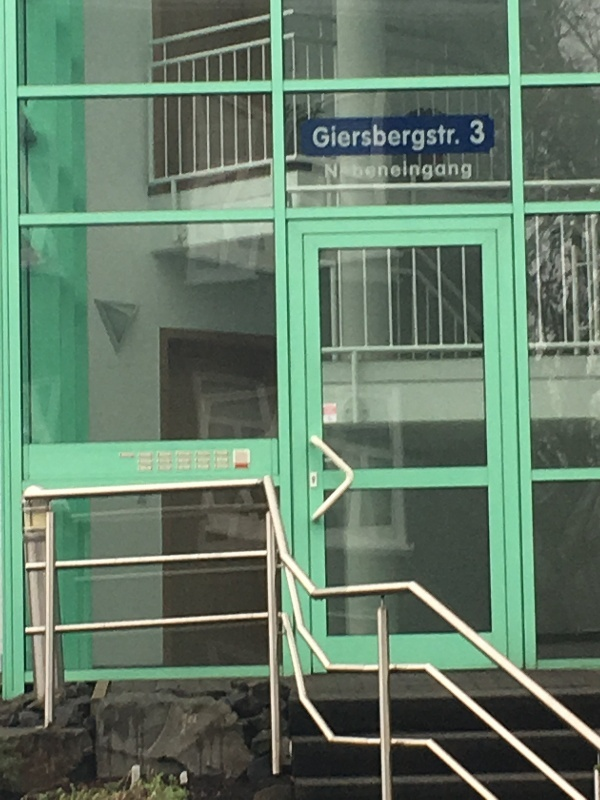text: (321, 125, 336, 154), (337, 125, 352, 154), (353, 125, 368, 154), (369, 125, 384, 154), (385, 125, 400, 154), (401, 125, 416, 154), (417, 125, 432, 154), (433, 125, 448, 154), (129, 451, 144, 474), (145, 451, 160, 474), (161, 451, 176, 474), (177, 451, 192, 474), (193, 451, 208, 474), (209, 451, 224, 474), (449, 125, 460, 154), (337, 162, 352, 182), (353, 162, 368, 182), (369, 162, 384, 182), (385, 162, 400, 182), (401, 162, 416, 182), (417, 162, 432, 182), (433, 162, 448, 182), (449, 162, 464, 182), (116, 451, 128, 474), (471, 120, 480, 146), (325, 162, 336, 182), (313, 125, 320, 154), (465, 162, 472, 182), (481, 120, 485, 146), (225, 451, 229, 474)
